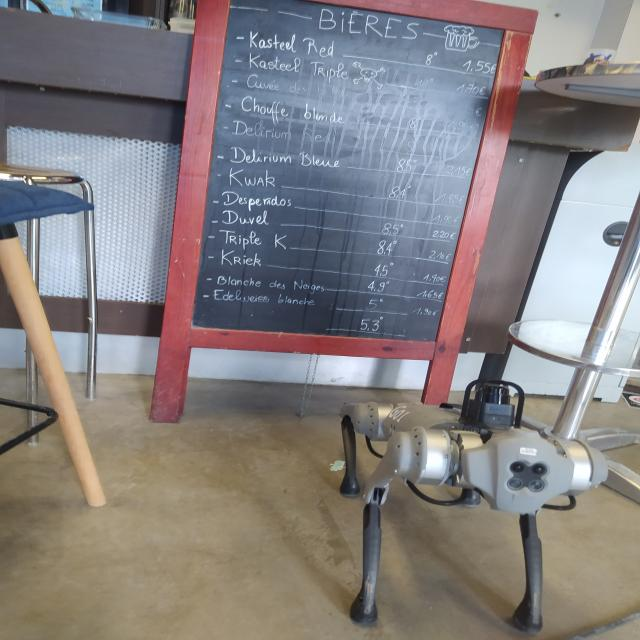unitree-go1-robot: (331, 370, 624, 640)
